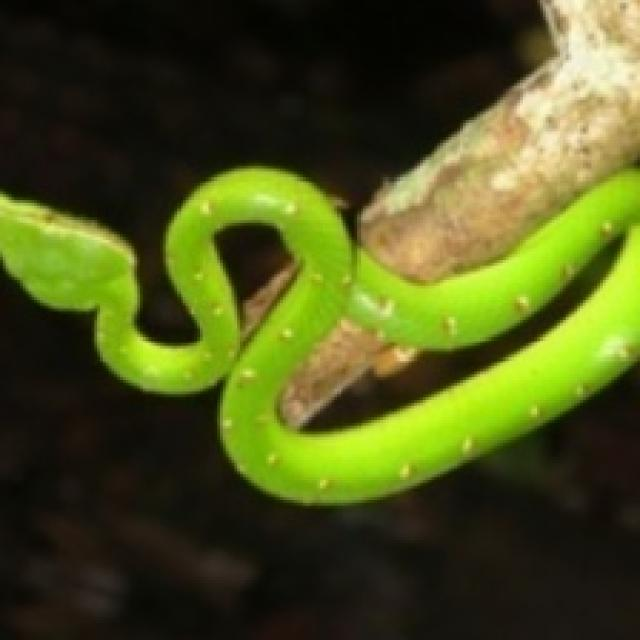north ph temple pitviper: (0, 169, 637, 503), (277, 231, 626, 431), (211, 220, 297, 346)
